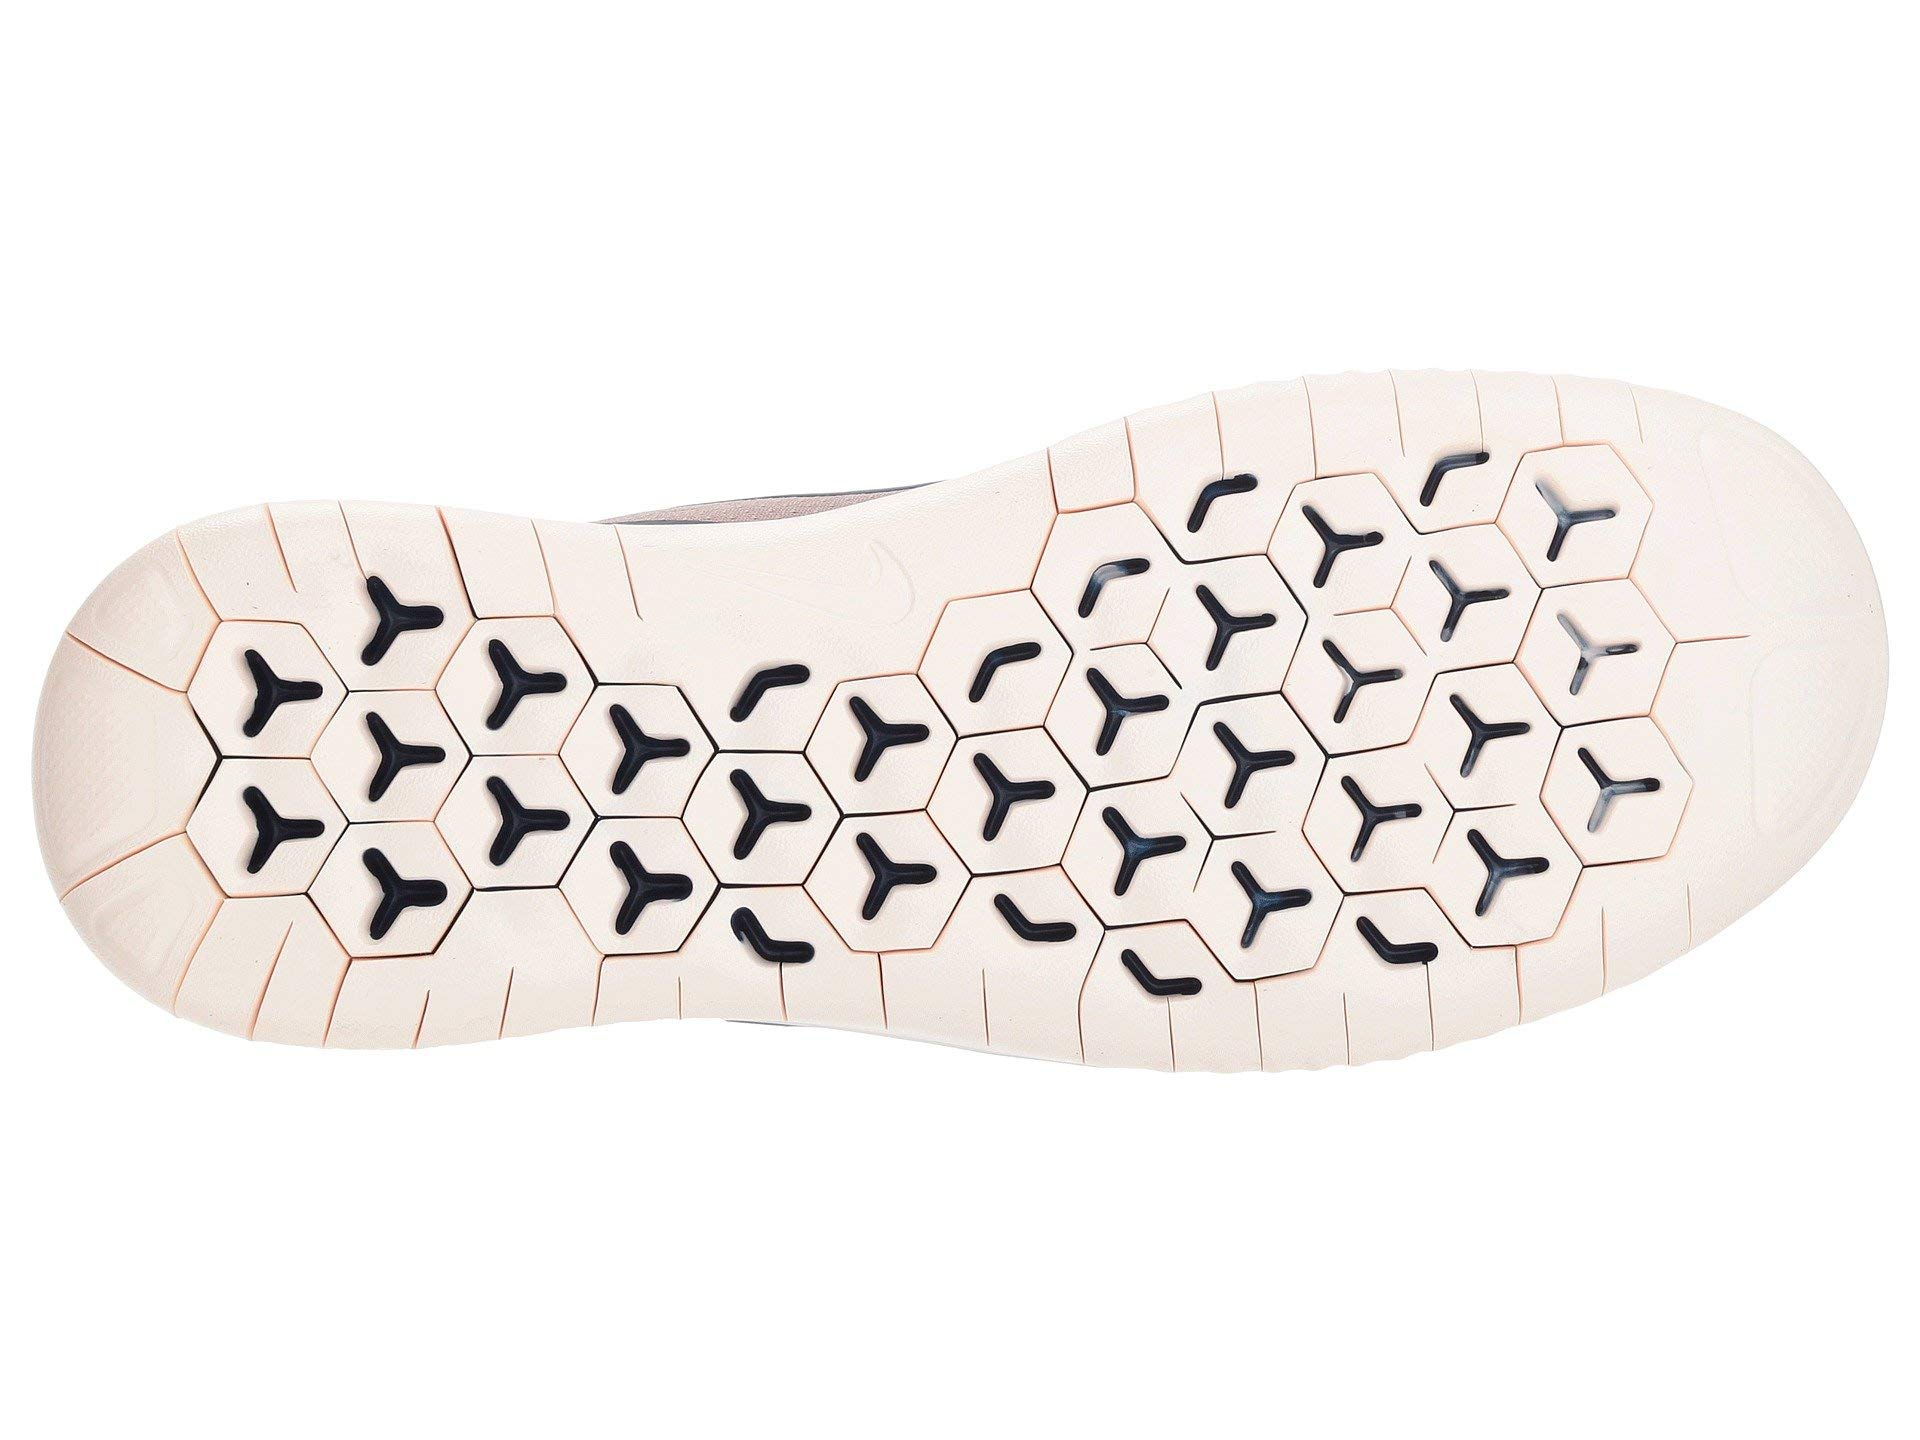chevron: (567, 629, 856, 892), (904, 579, 1089, 759)
line: (175, 844, 386, 1057), (1212, 368, 1612, 461)
polygon: (1160, 548, 1454, 886), (567, 629, 856, 892), (175, 844, 386, 1057), (904, 579, 1089, 759)
star: (1160, 548, 1454, 886), (567, 629, 856, 892)
